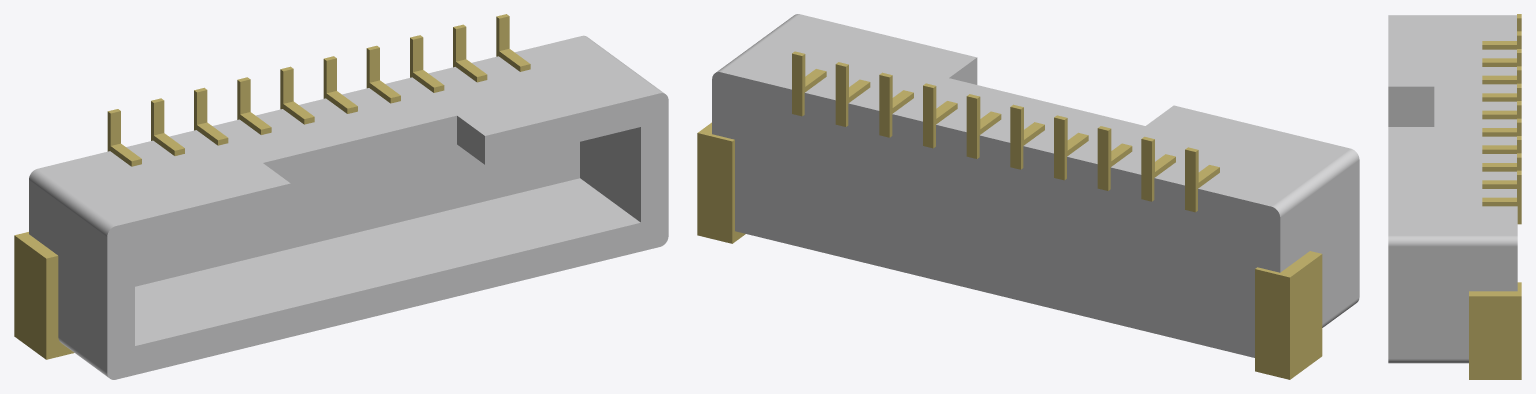
File: jst_gh_10pin.glb
3 views of the same model, side by side, from view 1: azimuth 30°, elevation 25°; view 2: azimuth 150°, elevation 25°; view 3: azimuth 270°, elevation 25° (orthographic). The views are drawn at different scales.
Visible parts, largest first — view 1: world; view 2: world; view 3: world.
Part boxes in pixels (x1,y1,x2,y2): world: (14, 14, 668, 379); world: (697, 14, 1359, 379); world: (1388, 14, 1521, 379).
Bounding box in the file's own units: 16.95 × 5.6 × 4.05.
